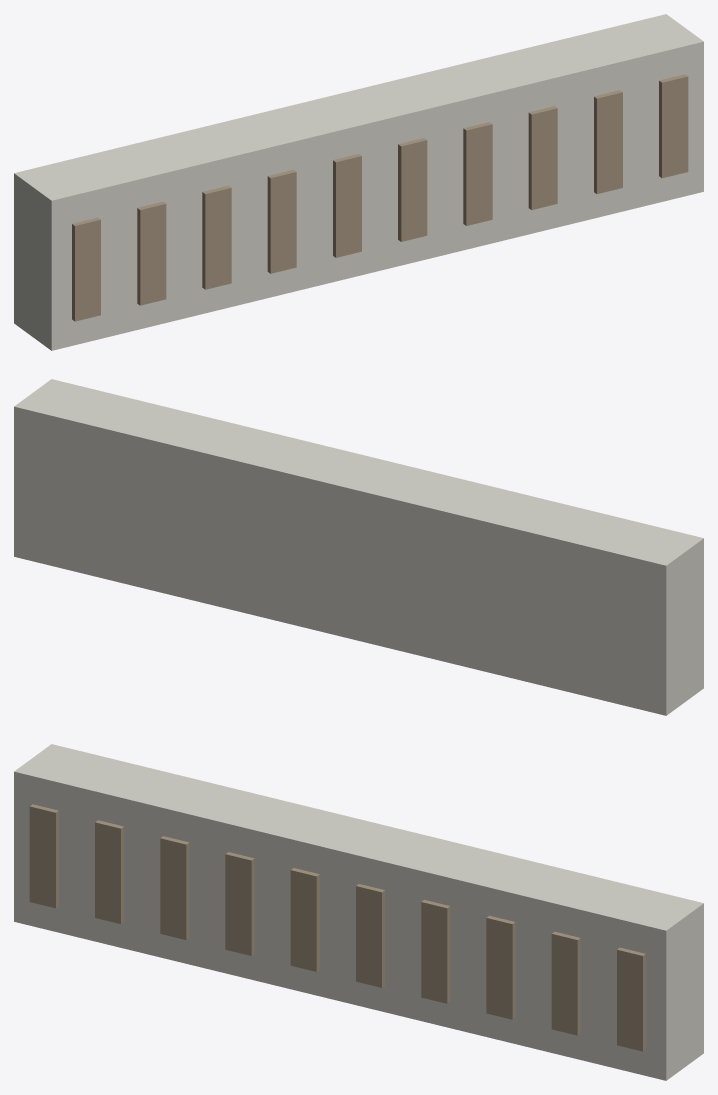
File: stock-car-oval-speedway-energy-wall-straight-fa265b0e__16920.glb
3 renders of one model, top to bottom at view 1: azimuth 30°, elevation 25°; view 2: azimuth 150°, elevation 25°; view 3: azimuth 330°, elevation 25°, orthographic.
Visible parts, largest first — view 1: energy-wall-straight; view 2: energy-wall-straight; view 3: energy-wall-straight.
Boxes of the visible parts, left/top/right/bottom form: energy-wall-straight: left=14, top=14, right=703, bottom=350; energy-wall-straight: left=14, top=379, right=703, bottom=715; energy-wall-straight: left=14, top=744, right=703, bottom=1080.
Size of the model in its own units: 5 by 1.1 by 0.55.
